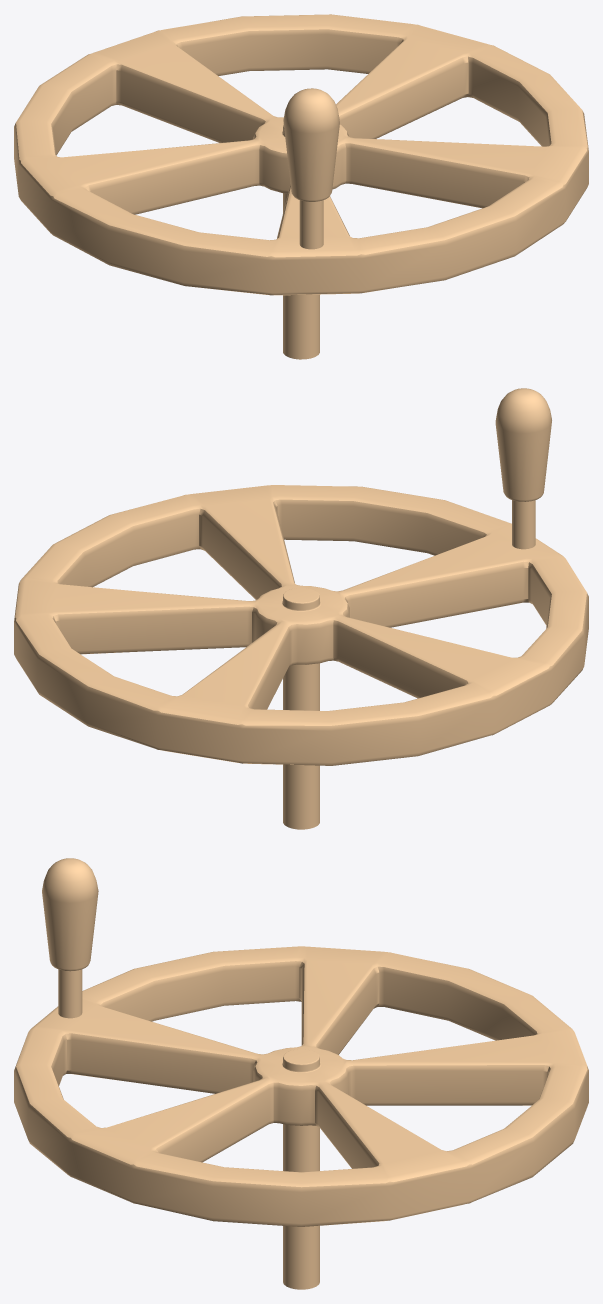
The model's file is Wheel_With_Handle.fbx.
The picture shows the model from 3 angles, top to bottom: view 1: azimuth 30°, elevation 25°; view 2: azimuth 150°, elevation 25°; view 3: azimuth 270°, elevation 25°; orthographic projection.
Visible parts, largest first — view 1: wheel, wheel_handle; view 2: wheel, wheel_handle; view 3: wheel, wheel_handle.
Boxes of the visible parts, x1=… form: wheel: x1=14, y1=14, x2=588, y2=359; wheel_handle: x1=283, y1=88, x2=339, y2=249; wheel: x1=14, y1=485, x2=588, y2=829; wheel_handle: x1=495, y1=388, x2=551, y2=549; wheel: x1=14, y1=946, x2=588, y2=1289; wheel_handle: x1=42, y1=858, x2=98, y2=1018.
Bounding box in the file's own units: 0.6 × 0.4242 × 0.6.
